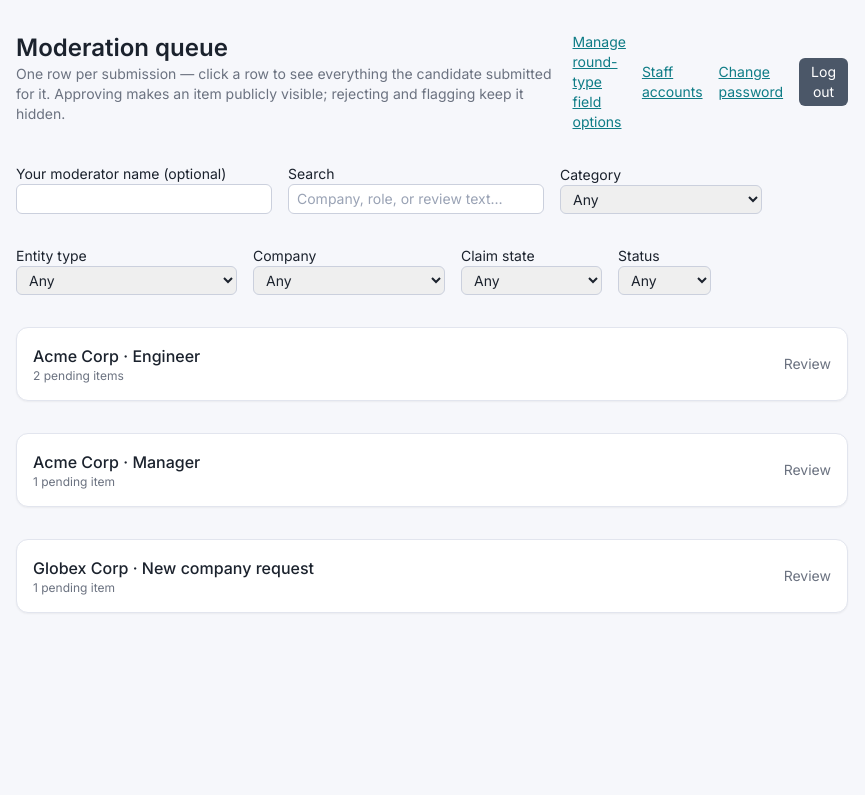
Test: ModerationPage (Phase 14 issue #128; session gating Phase 18 issue #160; grouped-by-submission Phase 29 issue #315) › expanding a submission reveals its full entity detail, including round content beyond the highlighted scores
Click the button "Acme Corp · Engineer 2 pending items Review": [76, 356] box left=33, top=344, right=831, bottom=384
(page scrolled)
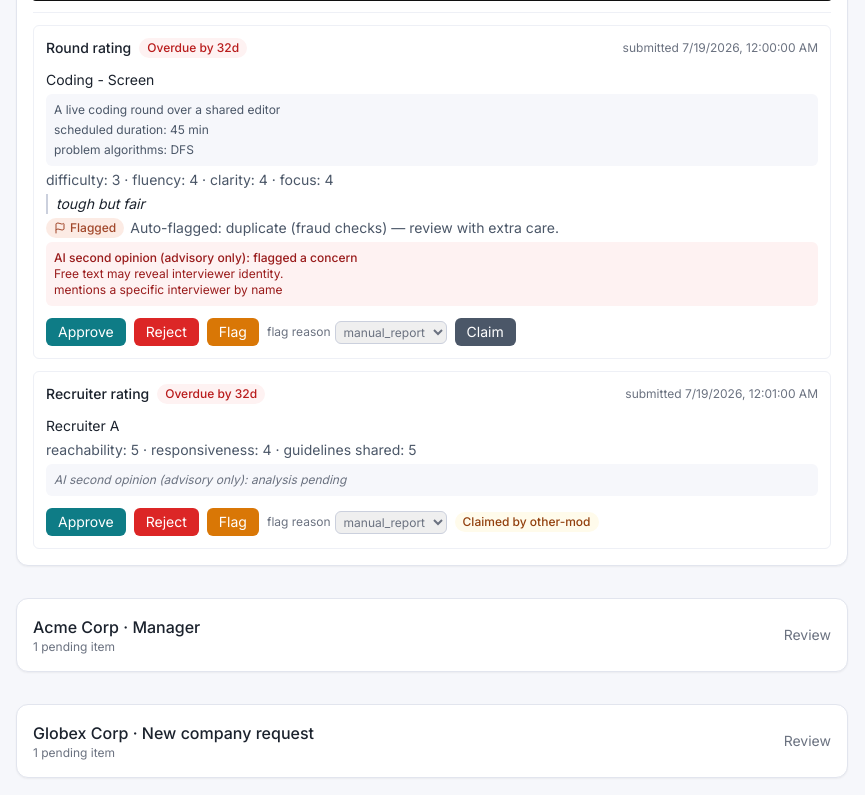
Expected: the heading "Round rating" is shown, left=46, top=38, right=131, bottom=58
Expected: the heading "Recruiter rating" is shown, left=46, top=384, right=149, bottom=404
Expected: the text "tough but fair" is shown, left=46, top=194, right=818, bottom=214
